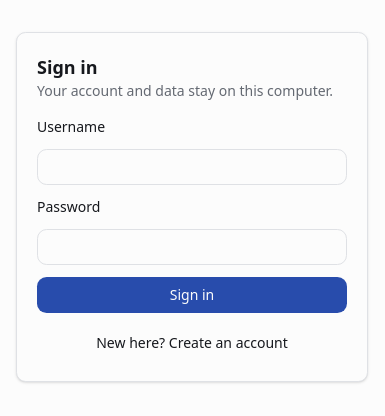
Test case: SignInPage › shows the error when sign-in fails
The image size is (385, 416).
Type "alice" into the field labelled "Username" at (192, 167), box [37,149,347,185]
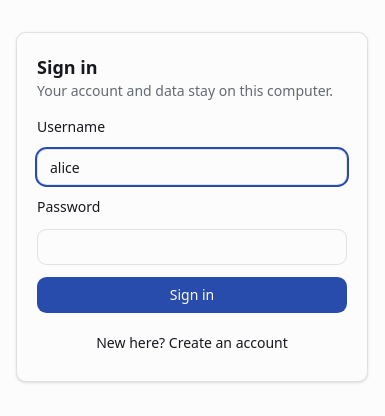
Type "wrong-password" into the password field labelled "Password" at (192, 247), box [37,229,347,265]
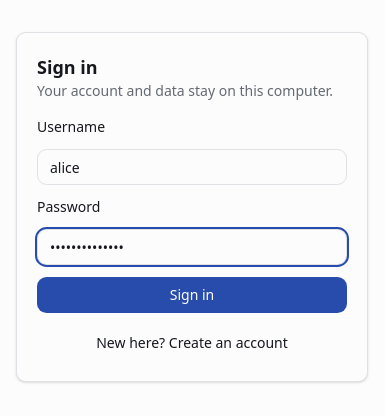
Click the button "Sign in" at (192, 295), box [37,277,347,313]
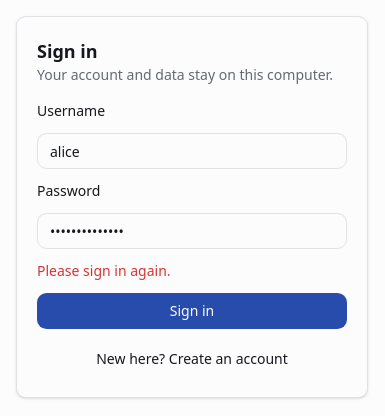
Expected: the message reads "Please sign in again.", [37,261,170,280]
